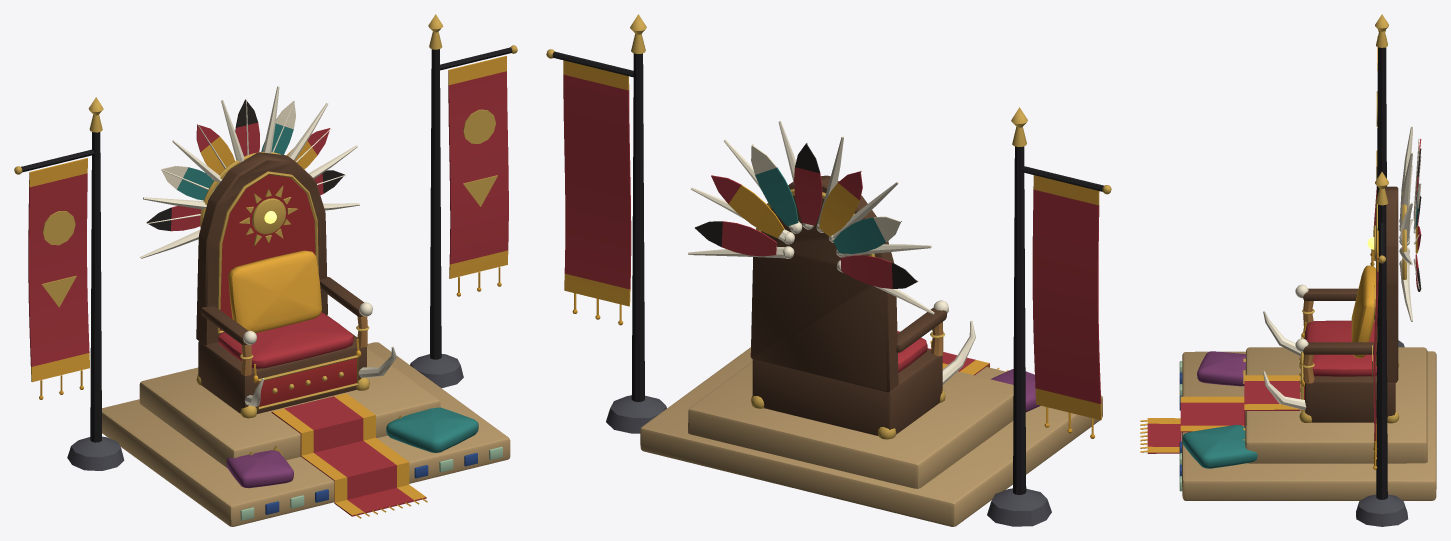
The model's file is deco_throne.fbx.
3 renders of one model, left to right at view 1: azimuth 30°, elevation 25°; view 2: azimuth 150°, elevation 25°; view 3: azimuth 270°, elevation 25°, orthographic. The views are drawn at different scales.
Parts seen in each view (by area): view 1: Throne_Banners, Throne_Dais, Throne_Seat, Throne_Cushions, Throne_Runner, Throne_Fan; view 2: Throne_Banners, Throne_Dais, Throne_Seat, Throne_Fan, Throne_Cushions; view 3: Throne_Dais, Throne_Seat, Throne_Cushions, Throne_Banners, Throne_Runner, Throne_Fan.
Boxes of the visible parts, x1,y1,x2,y2 form: Throne_Banners: (14,14,517,470); Throne_Dais: (102,342,510,526); Throne_Seat: (196,152,396,418); Throne_Cushions: (218,250,478,488); Throne_Runner: (271,393,427,518); Throne_Fan: (140,86,360,258); Throne_Banners: (546,14,1111,526); Throne_Dais: (640,347,1102,526); Throne_Seat: (750,175,975,439); Throne_Fan: (688,121,934,314); Throne_Cushions: (897,331,1040,412); Throne_Dais: (1179,347,1436,500); Throne_Seat: (1263,186,1399,423); Throne_Cushions: (1182,265,1376,468); Throne_Banners: (1356,14,1408,526); Throne_Runner: (1140,375,1300,453); Throne_Fan: (1399,126,1421,321).
Size of the model in its own units: 607 by 418 by 326.
